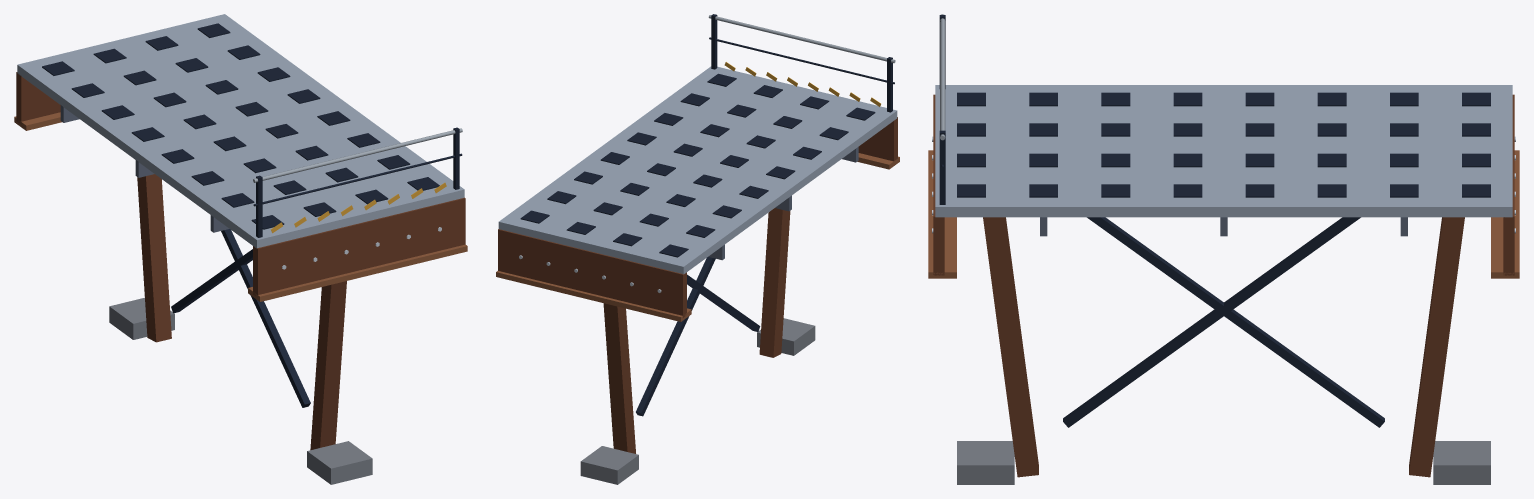
The model's file is switchyard_middeck.glb.
The picture shows the model from 3 angles, left to right: view 1: azimuth 30°, elevation 25°; view 2: azimuth 150°, elevation 25°; view 3: azimuth 270°, elevation 25°; orthographic projection. The views are drawn at different scales.
Visible parts, largest first — view 1: mid_slab, mid_girder1, mid_leg1, mid_leg-1, mid_foot1, mid_brace_b, mid_flange1, mid_girder-1, mid_foot-1, mid_rail_top, mid_brace_a, mid_rail_mid (+1 smaller); view 2: mid_slab, mid_girder-1, mid_leg-1, mid_leg1, mid_foot-1, mid_brace_a, mid_flange-1, mid_foot1, mid_girder1, mid_rail_top, mid_brace_b, mid_rail_mid; view 3: mid_slab, mid_leg-1, mid_leg1, mid_brace_a, mid_brace_b, mid_foot-1, mid_foot1, mid_flange-1, mid_flange1, mid_girder-1, mid_girder1, mid_rail_top.
Part boxes in pixels (box(x1,y1,x2,y2)): mid_slab: box(17, 14, 464, 248); mid_girder1: box(253, 197, 465, 297); mid_leg1: box(310, 281, 346, 450); mid_leg-1: box(137, 174, 171, 342); mid_foot1: box(307, 441, 372, 484); mid_brace_b: box(221, 229, 310, 407); mid_flange1: box(248, 244, 467, 301); mid_girder-1: box(16, 72, 60, 124); mid_foot-1: box(109, 297, 174, 339); mid_rail_top: box(253, 128, 462, 182); mid_brace_a: box(171, 249, 252, 313); mid_rail_mid: box(253, 153, 462, 206); mid_slab: box(498, 66, 897, 274); mid_girder-1: box(498, 229, 686, 317); mid_leg-1: box(603, 303, 635, 453); mid_leg1: box(759, 208, 790, 357); mid_foot-1: box(580, 446, 638, 484); mid_brace_a: box(636, 257, 715, 416); mid_flange-1: box(496, 271, 691, 321); mid_foot1: box(757, 318, 815, 355); mid_girder1: box(858, 117, 897, 161); mid_rail_top: box(708, 15, 895, 63); mid_brace_b: box(687, 274, 760, 331); mid_rail_mid: box(709, 37, 894, 84); mid_slab: box(935, 85, 1512, 217); mid_leg-1: box(1409, 217, 1464, 477); mid_leg1: box(983, 217, 1038, 477); mid_brace_a: box(1087, 217, 1384, 427); mid_brace_b: box(1063, 217, 1360, 427); mid_foot-1: box(1433, 441, 1490, 484); mid_foot1: box(957, 441, 1014, 484); mid_flange-1: box(1491, 150, 1519, 278); mid_flange1: box(928, 150, 956, 278); mid_girder-1: box(1503, 94, 1514, 275); mid_girder1: box(933, 94, 944, 275); mid_rail_top: box(940, 14, 945, 140).
Bounding box in the file's own units: 4 × 6.1 × 8.2.
